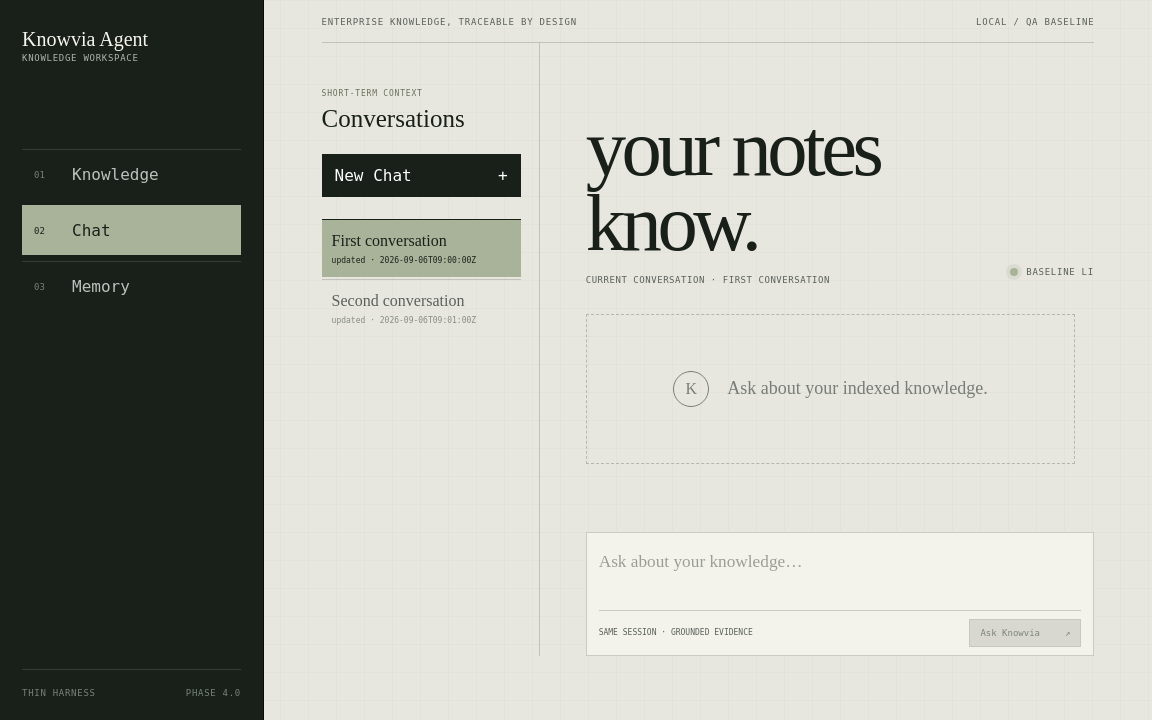
Test: streaming Chat UX › marks a partial stream as incomplete and re-enables input after an error
(page scrolled)
Check: the text "Ask about your indexed knowledge." is shown, box [727,378,988,400]
Type "Will this fail?" into the text box named "Question" at {"x": 840, "y": 577}, box [599,543,1081,611]
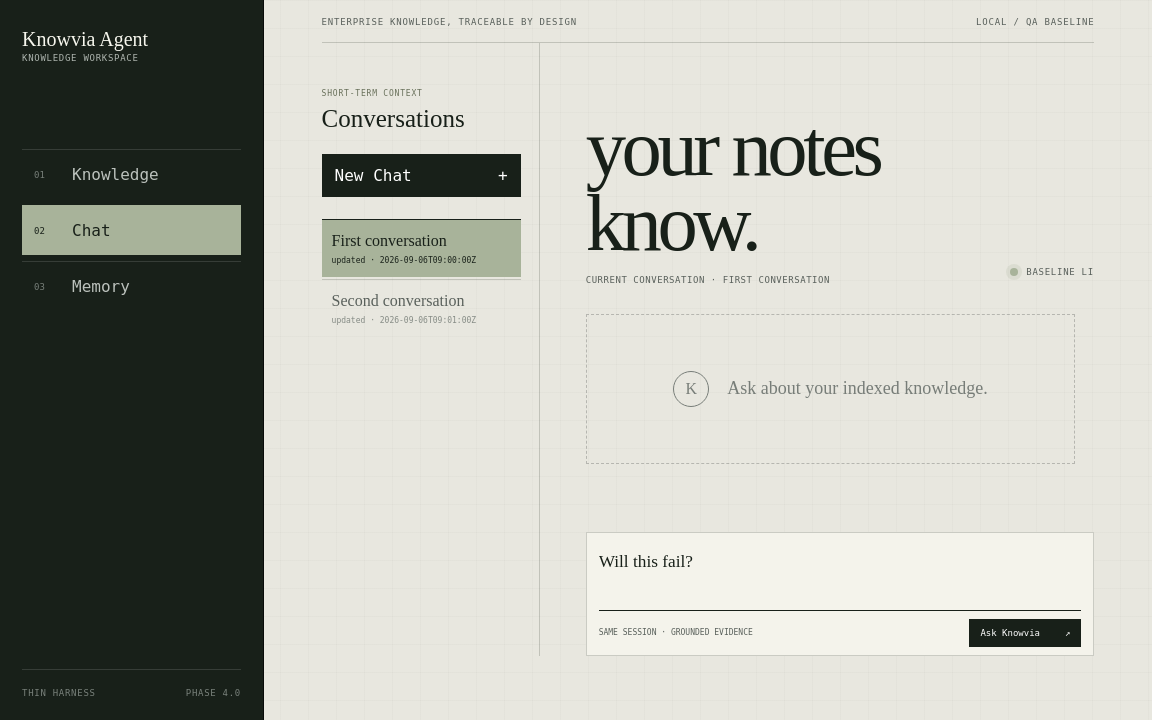
Click the button "Ask Knowvia ↗" at {"x": 1025, "y": 633}, box [969,619,1081,647]
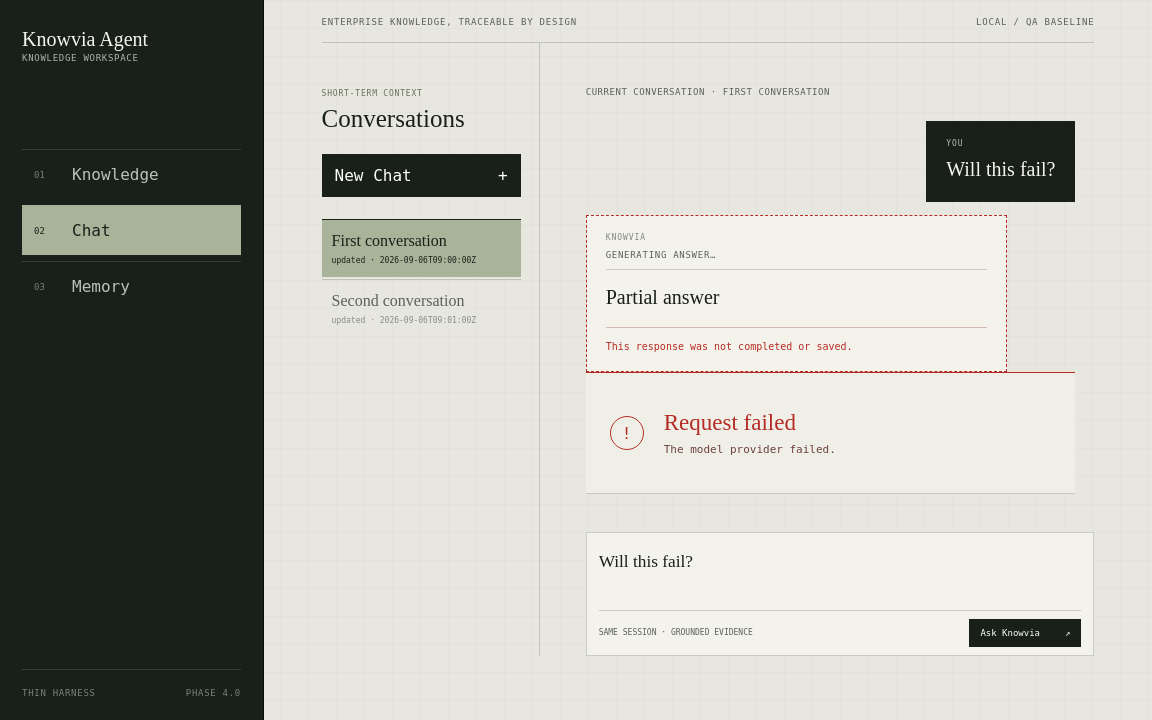
Check: the text "Partial answer" is shown, box [606,286,720,308]
Check: the text "This response was not completed or saved." is shown, box [606,327,987,354]
Check: the message "! Request failed The model provider failed." is shown, box [586,372,1075,494]
